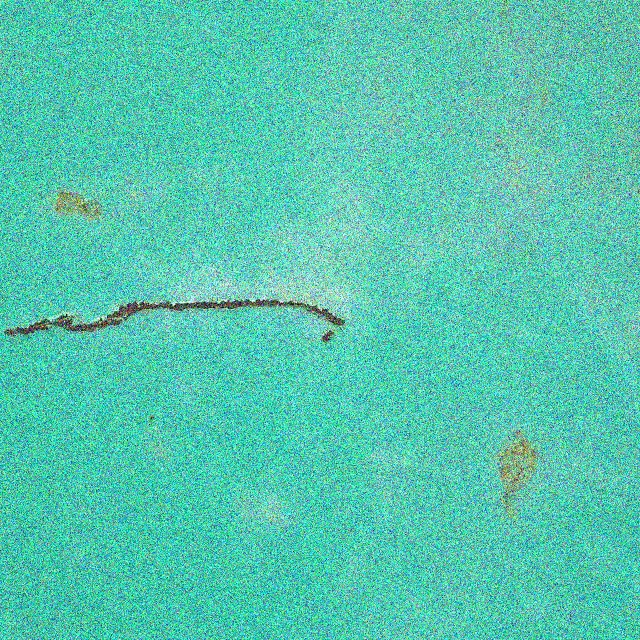SurfaceCrack: (2, 264, 362, 370)
